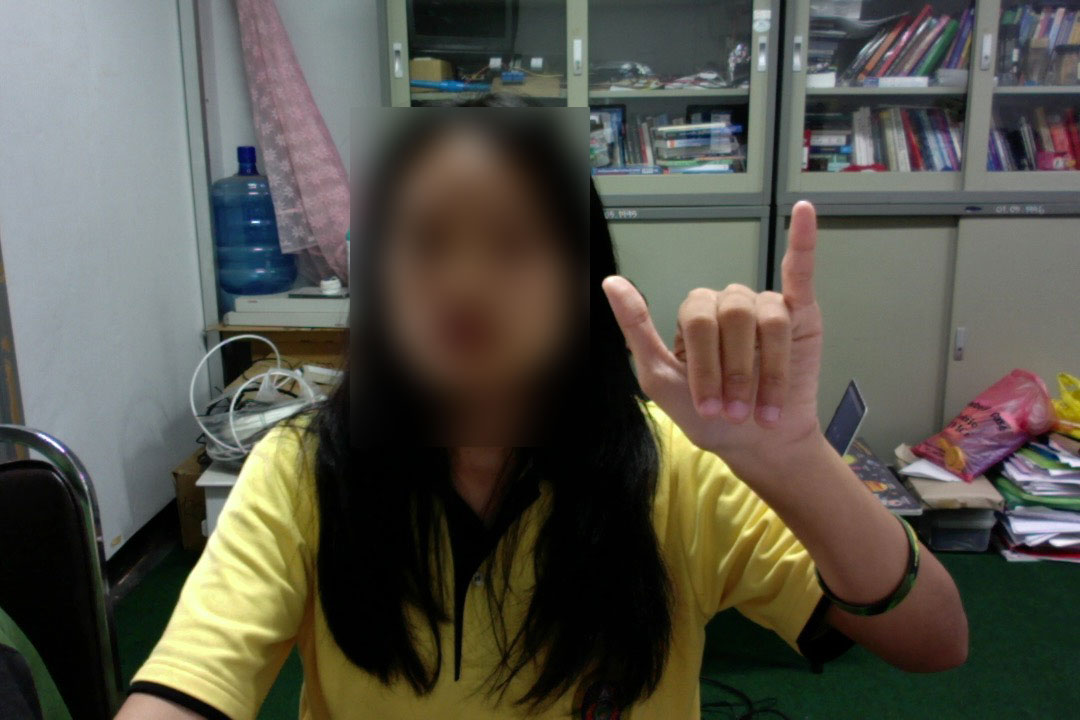yor: (593, 194, 833, 483)
